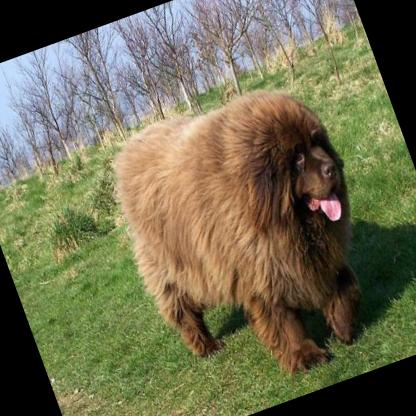Newfoundland: (87, 59, 402, 408)
